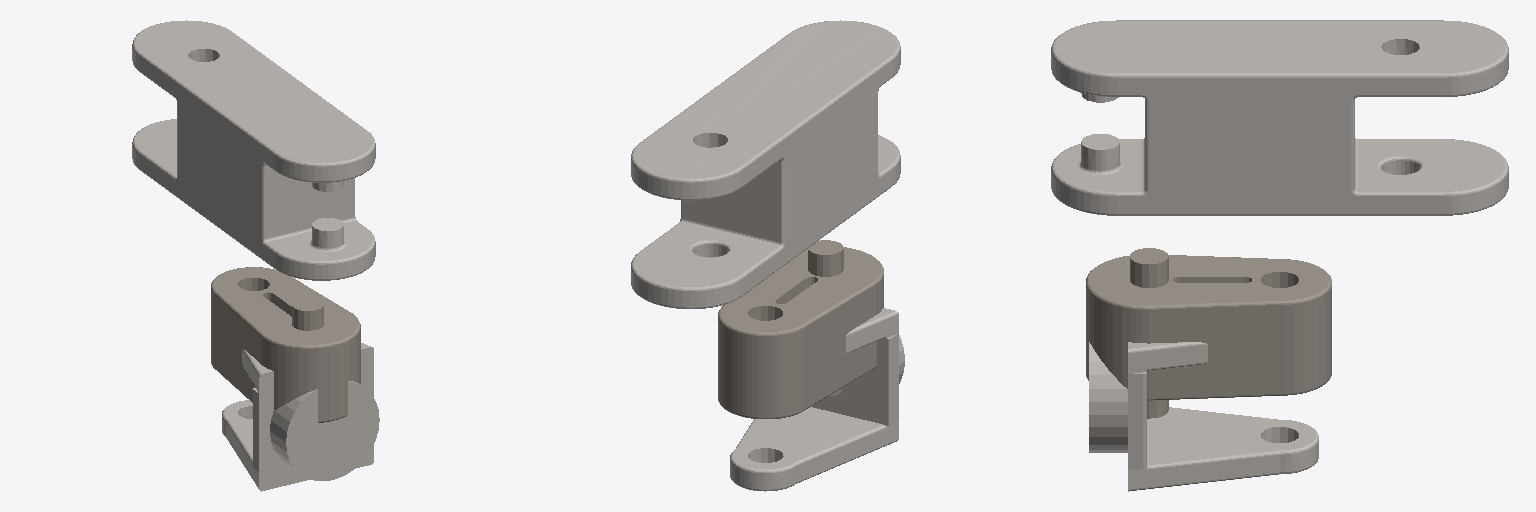
URDF robot description (testarm_urdf):
<?xml version="1.0" encoding="utf-8"?>
<!-- This URDF was automatically created by SolidWorks to URDF Exporter! Originally created by [author] ([email redacted]) 
     Commit Version: 1.6.0-4-g7f85cfe  Build Version: 1.6.7995.38578
     For more information, please see http://wiki.ros.org/sw_urdf_exporter -->
<robot
  name="testarm_urdf">
  <link
    name="base_link">
    <inertial>
      <origin
        xyz="2.7756E-17 1.1102E-16 0.10722"
        rpy="0 0 0" />
      <mass
        value="667.25" />
      <inertia
        ixx="21.308"
        ixy="3.2909E-08"
        ixz="4.9251E-16"
        iyy="21.308"
        iyz="-5.9676E-16"
        izz="36.305" />
    </inertial>
    <visual>
      <origin
        xyz="0 0 0"
        rpy="0 0 0" />
      <geometry>
        <mesh
          filename="package://testarm_urdf/meshes/base_link.STL" />
      </geometry>
      <material
        name="">
        <color
          rgba="0.61961 0.40784 0.2 1" />
      </material>
    </visual>
    <collision>
      <origin
        xyz="0 0 0"
        rpy="0 0 0" />
      <geometry>
        <mesh
          filename="package://testarm_urdf/meshes/base_link.STL" />
      </geometry>
    </collision>
  </link>
  <link
    name="l1">
    <inertial>
      <origin
        xyz="-9.8841E-05 1.3203E-07 0.03302"
        rpy="0 0 0" />
      <mass
        value="103.33" />
      <inertia
        ixx="2.3418"
        ixy="-6.0067E-07"
        ixz="0.00010868"
        iyy="1.8272"
        iyz="-1.2951E-06"
        izz="1.6131" />
    </inertial>
    <visual>
      <origin
        xyz="0 0 0"
        rpy="0 0 0" />
      <geometry>
        <mesh
          filename="package://testarm_urdf/meshes/l1.STL" />
      </geometry>
      <material
        name="">
        <color
          rgba="0.77647 0.75686 0.73725 1" />
      </material>
    </visual>
    <collision>
      <origin
        xyz="0 0 0"
        rpy="0 0 0" />
      <geometry>
        <mesh
          filename="package://testarm_urdf/meshes/l1.STL" />
      </geometry>
    </collision>
  </link>
  <joint
    name="j1"
    type="revolute">
    <origin
      xyz="0.00011944 0 0.34027"
      rpy="0 0 0" />
    <parent
      link="base_link" />
    <child
      link="l1" />
    <axis
      xyz="0 0 1" />
    <limit
      lower="0"
      upper="3.1412"
      effort="300"
      velocity="3" />
  </joint>
  <link
    name="l2">
    <inertial>
      <origin
        xyz="4.3999E-12 0.0014837 0.17703"
        rpy="0 0 0" />
      <mass
        value="141.23" />
      <inertia
        ixx="2.7406"
        ixy="-9.097E-10"
        ixz="-3.9887E-10"
        iyy="2.7555"
        iyz="0.011982"
        izz="1.1047" />
    </inertial>
    <visual>
      <origin
        xyz="0 0 0"
        rpy="0 0 0" />
      <geometry>
        <mesh
          filename="package://testarm_urdf/meshes/l2.STL" />
      </geometry>
      <material
        name="">
        <color
          rgba="0.64706 0.61961 0.58824 1" />
      </material>
    </visual>
    <collision>
      <origin
        xyz="0 0 0"
        rpy="0 0 0" />
      <geometry>
        <mesh
          filename="package://testarm_urdf/meshes/l2.STL" />
      </geometry>
    </collision>
  </link>
  <joint
    name="j2"
    type="revolute">
    <origin
      xyz="-0.00011944 0 0.18012"
      rpy="0 0 0" />
    <parent
      link="l1" />
    <child
      link="l2" />
    <axis
      xyz="0 -1 0" />
    <limit
      lower="-1.57"
      upper="1.57"
      effort="200"
      velocity="3" />
  </joint>
  <link
    name="l3">
    <inertial>
      <origin
        xyz="-0.31293 -7.6425E-06 -0.064681"
        rpy="0 0 0" />
      <mass
        value="339.62" />
      <inertia
        ixx="5.1137"
        ixy="-0.00069979"
        ixz="-8.6937E-16"
        iyy="14.561"
        iyz="8.2796E-17"
        izz="16.141" />
    </inertial>
    <visual>
      <origin
        xyz="0 0 0"
        rpy="0 0 0" />
      <geometry>
        <mesh
          filename="package://testarm_urdf/meshes/l3.STL" />
      </geometry>
      <material
        name="">
        <color
          rgba="0.77647 0.75686 0.73725 1" />
      </material>
    </visual>
    <collision>
      <origin
        xyz="0 0 0"
        rpy="0 0 0" />
      <geometry>
        <mesh
          filename="package://testarm_urdf/meshes/l3.STL" />
      </geometry>
    </collision>
  </link>
  <joint
    name="j3"
    type="revolute">
    <origin
      xyz="0 0 0.39751"
      rpy="0 0 0" />
    <parent
      link="l2" />
    <child
      link="l3" />
    <axis
      xyz="0 -1 0" />
    <limit
      lower="0"
      upper="3.142"
      effort="300"
      velocity="3" />
  </joint>
</robot>

--- Facts derived from the render (not from the file) ---
3 views of the same robot in one strip: view 1: azimuth 30°, elevation 25°; view 2: azimuth 150°, elevation 25°; view 3: azimuth 270°, elevation 25° (orthographic).
Robot: testarm_urdf — 4 links, 3 joints (3 revolute); root link base_link; default pose: every joint at zero.
Links seen in each view (by area): view 1: l3, l2, l1; view 2: l3, l2, l1; view 3: l3, l2, l1.
Link boxes in pixels (x1=…): l3: x1=132, y1=20, x2=375, y2=280; l2: x1=211, y1=267, x2=360, y2=422; l1: x1=222, y1=343, x2=379, y2=491; l3: x1=631, y1=20, x2=900, y2=308; l2: x1=718, y1=240, x2=883, y2=418; l1: x1=730, y1=308, x2=904, y2=491; l3: x1=1051, y1=20, x2=1508, y2=215; l2: x1=1086, y1=248, x2=1331, y2=418; l1: x1=1089, y1=342, x2=1318, y2=491.
Size in the robot's own frame: 0.3104 by 0.889 by 0.8824 metres.
3 mesh visuals loaded from 4 distinct referenced files (3 binary STL); not drawn: 1 (reference not matched to a file when rendering).